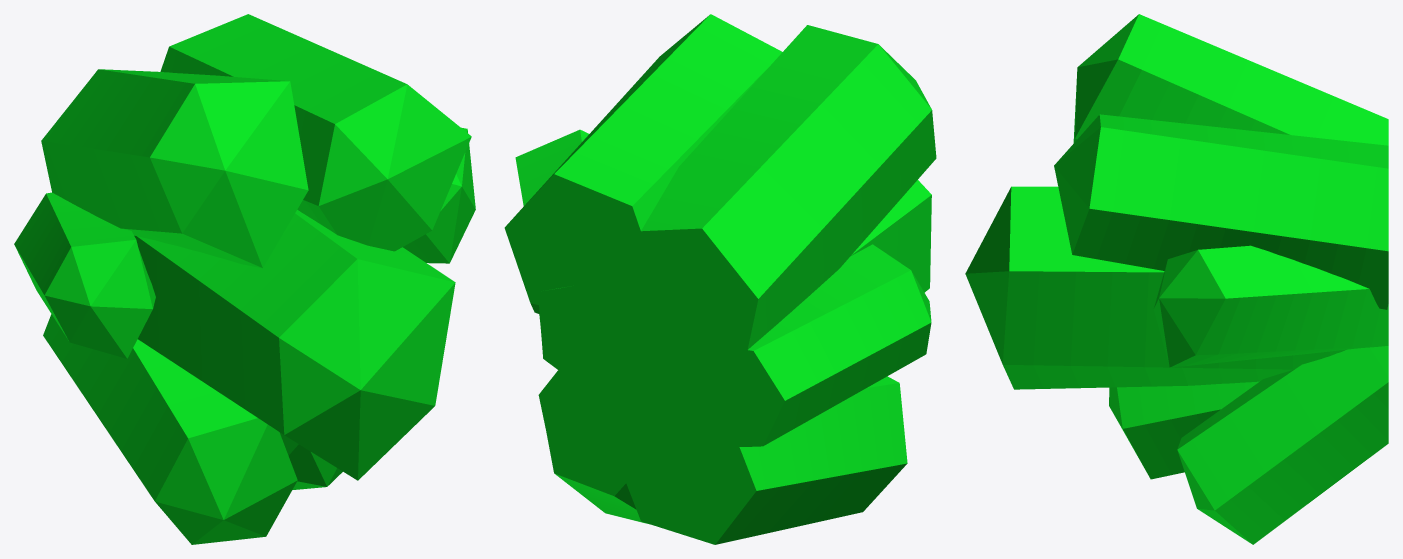
The model's file is crystal.glb.
3 views of the same model, side by side, from view 1: azimuth 30°, elevation 25°; view 2: azimuth 150°, elevation 25°; view 3: azimuth 270°, elevation 25° (orthographic). The views are drawn at different scales.
Parts seen in each view (by area): view 1: crystal; view 2: crystal; view 3: crystal.
Boxes of the visible parts, x1,y1,x2,y2 form: crystal: [14, 14, 475, 544]; crystal: [504, 14, 936, 544]; crystal: [965, 14, 1388, 544].
Bounding box in the file's own units: 1.41 × 1.56 × 1.36.
